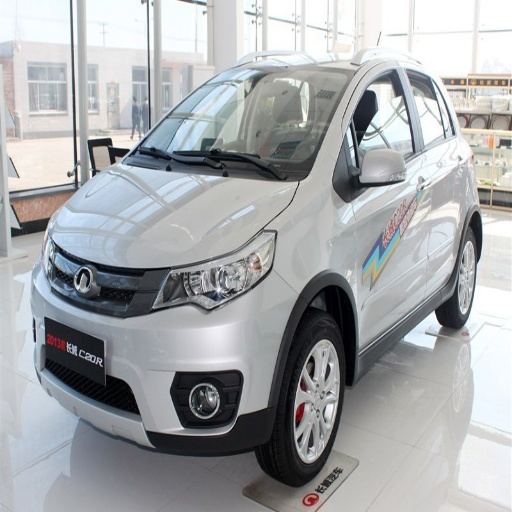front_bumper: (32, 244, 297, 454)
front_glass: (126, 69, 352, 178)
front_left_door: (337, 64, 427, 341)
